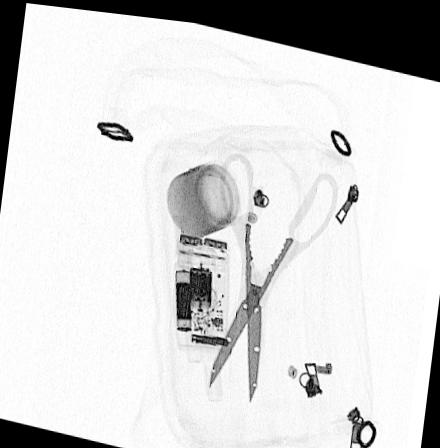Scissors: (208, 144, 338, 396)
